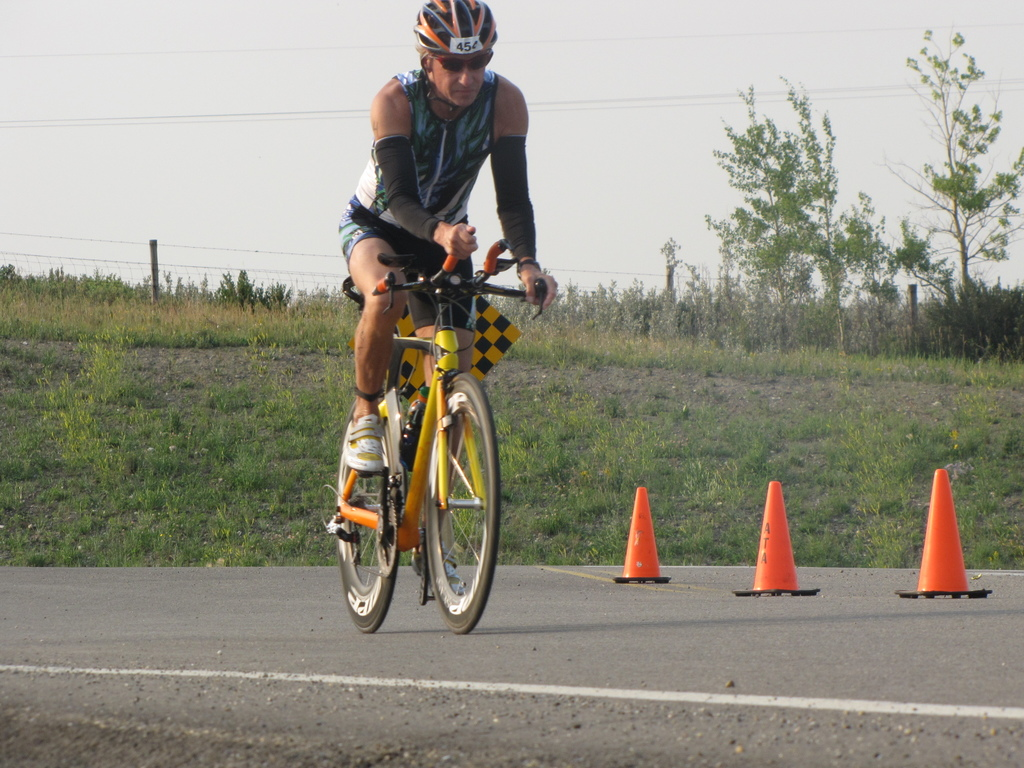Tree: (709, 71, 898, 345), (895, 10, 1003, 343)
